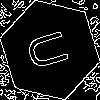U: (25, 25, 79, 73)
